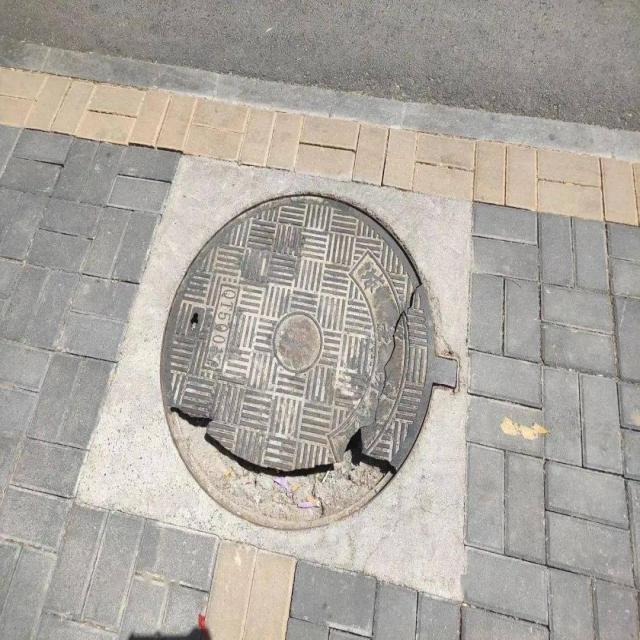manhole: (161, 195, 458, 528)
